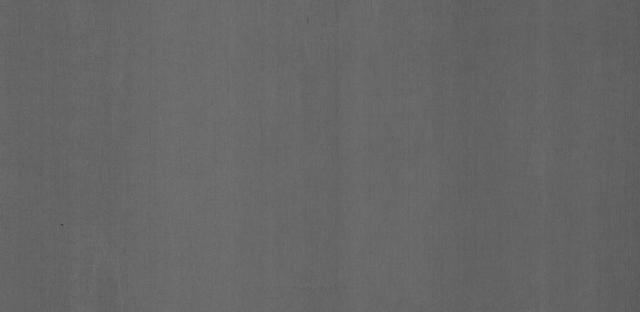inclusion: (55, 221, 65, 230)
